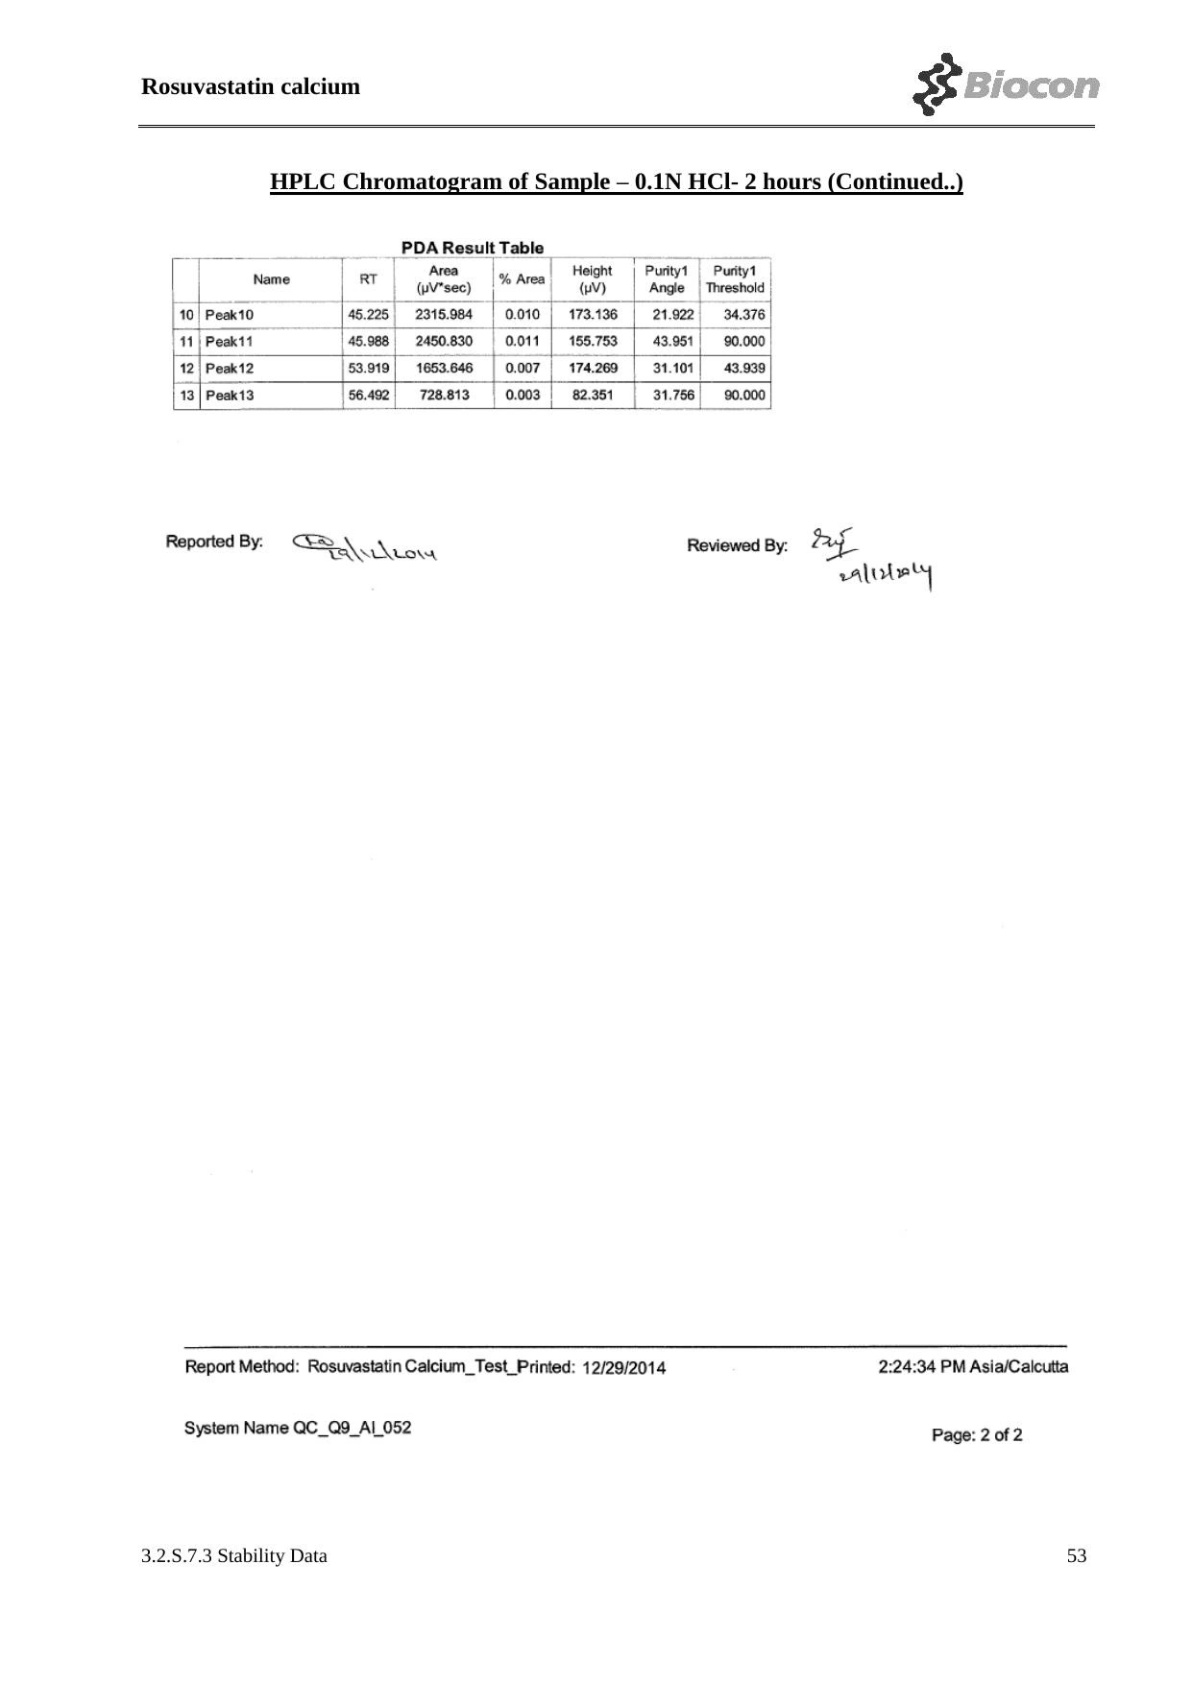full_lined: (169, 254, 771, 413)
